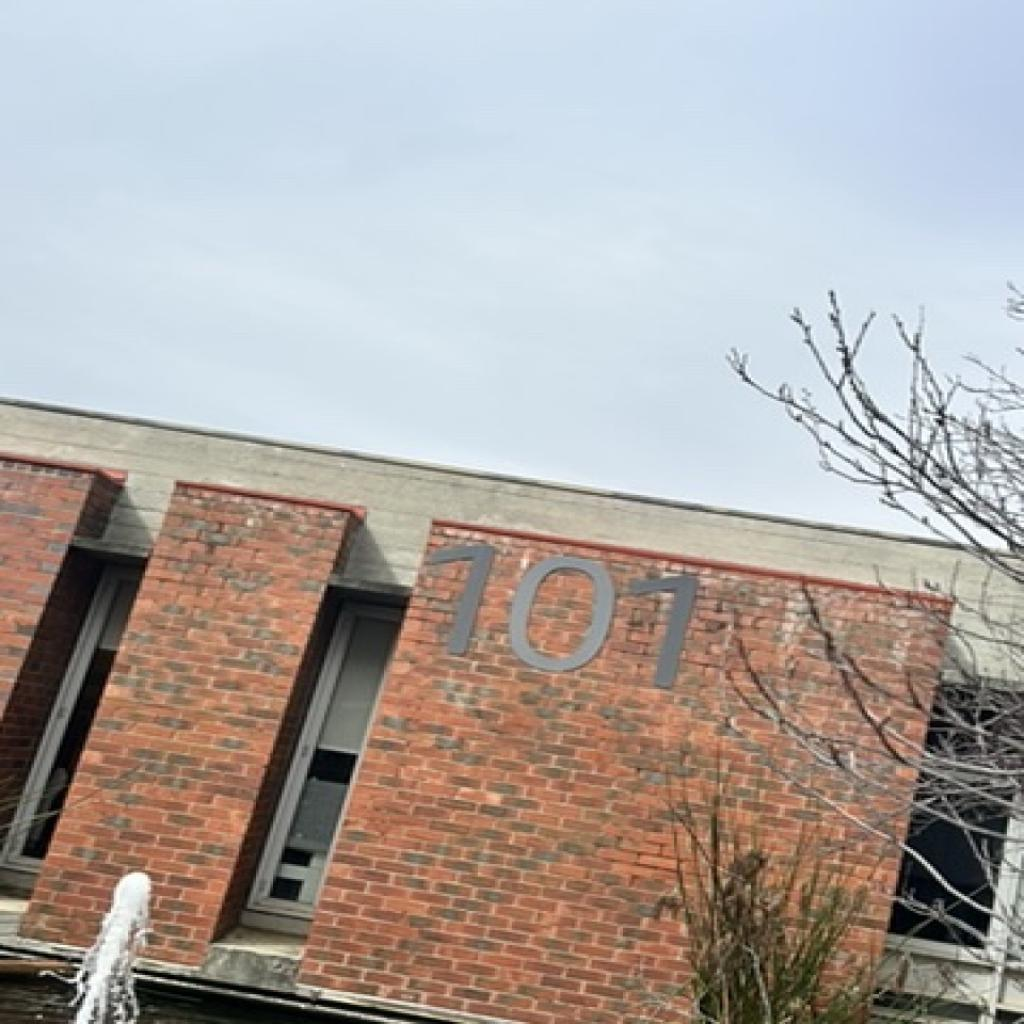BuildingCodes: (420, 540, 704, 694)
